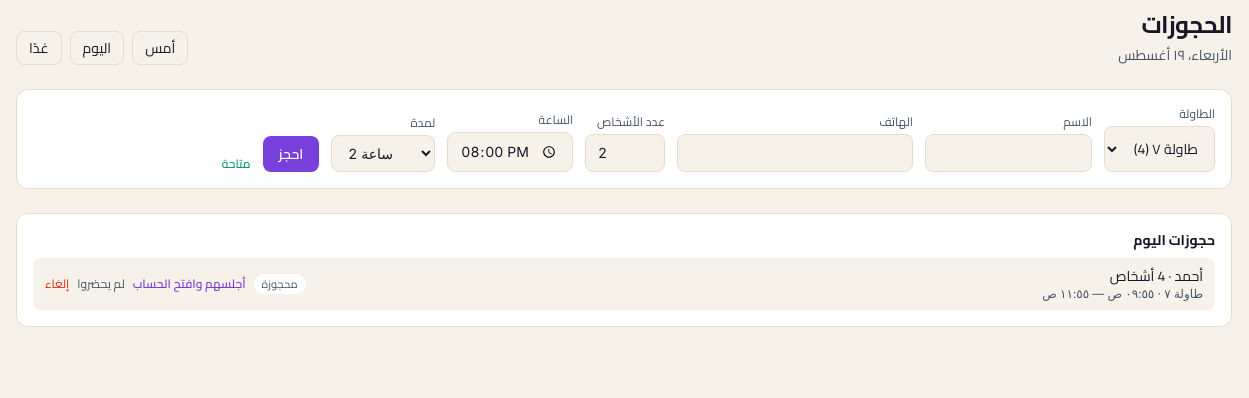
seating a party › a booking that is no longer waiting gets a DIFFERENT sentence
The image size is (1249, 398).
Click the button with test id "seat-r-1" at (189,284), box 133,276 -> 246,292
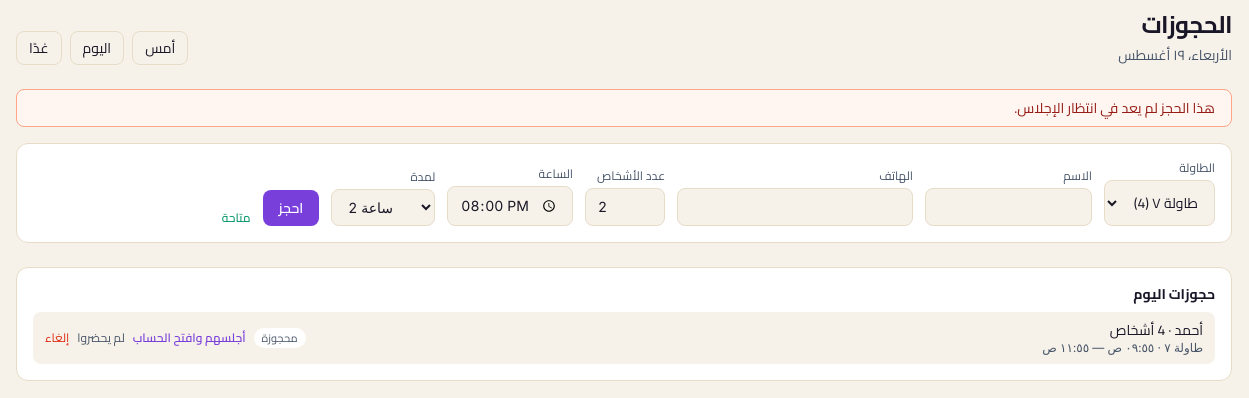
Expected: the text "هذا الحجز لم يعد في انتظار الإجلاس." is shown, 16,89 -> 1232,127
